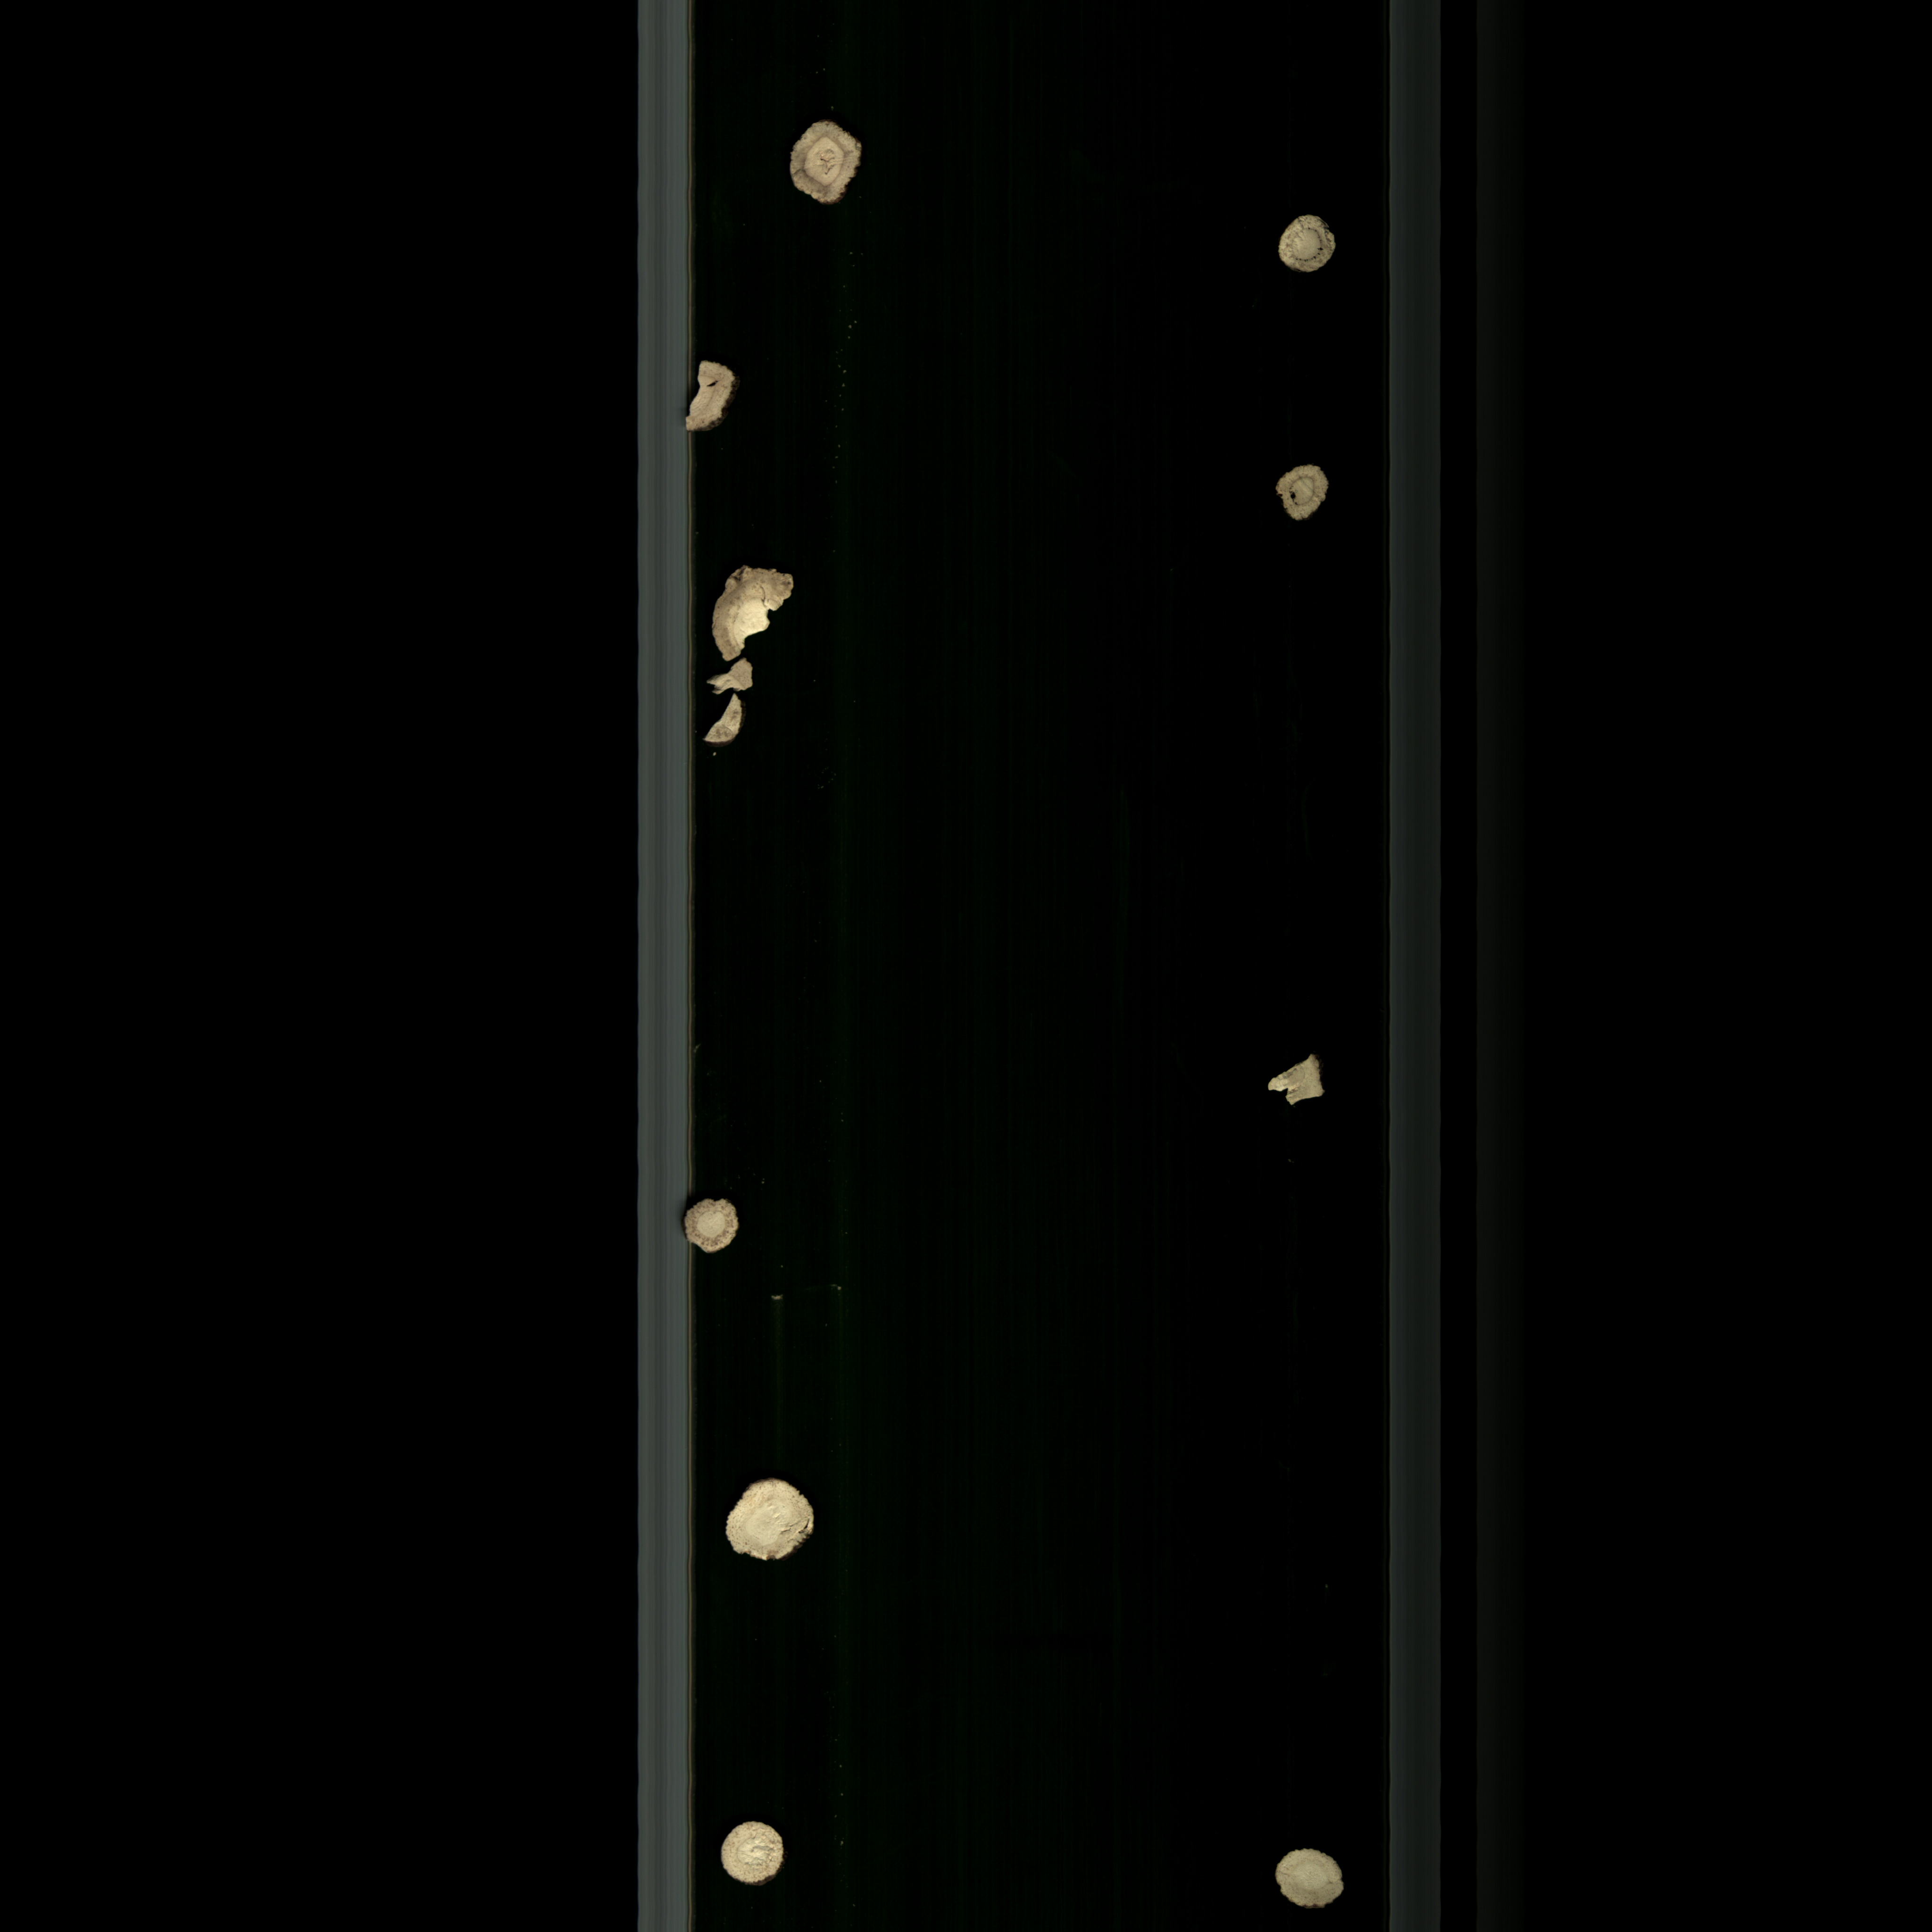debris: (706, 561, 812, 663), (683, 350, 736, 442)
distortion: (1261, 1042, 1330, 1108), (702, 694, 750, 755), (709, 662, 763, 694)
moldy: (784, 113, 862, 221), (1269, 207, 1341, 280), (1270, 456, 1338, 534), (676, 1192, 747, 1260)
